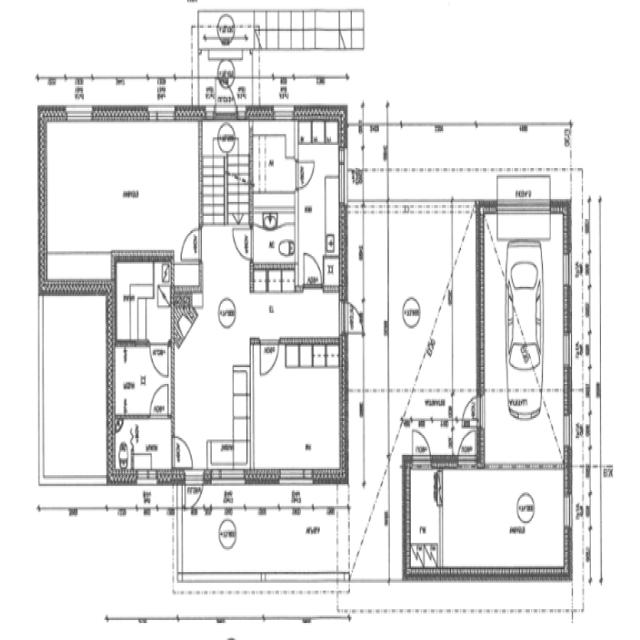door: (290, 156, 319, 202), (341, 293, 367, 341), (258, 332, 280, 382), (228, 228, 255, 267), (176, 232, 206, 266), (300, 251, 321, 297), (181, 478, 209, 511), (149, 386, 173, 424), (456, 426, 480, 464), (172, 435, 196, 469), (150, 345, 170, 382), (465, 392, 483, 430), (411, 430, 431, 464)
window: (493, 190, 558, 216), (202, 466, 248, 488), (148, 95, 180, 123), (278, 468, 314, 490), (561, 323, 575, 373), (560, 251, 577, 291), (62, 102, 90, 126), (562, 489, 576, 535), (562, 407, 576, 448), (270, 101, 296, 123), (138, 464, 156, 490)
